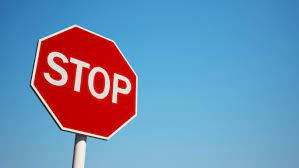Stop: (29, 23, 138, 143)
